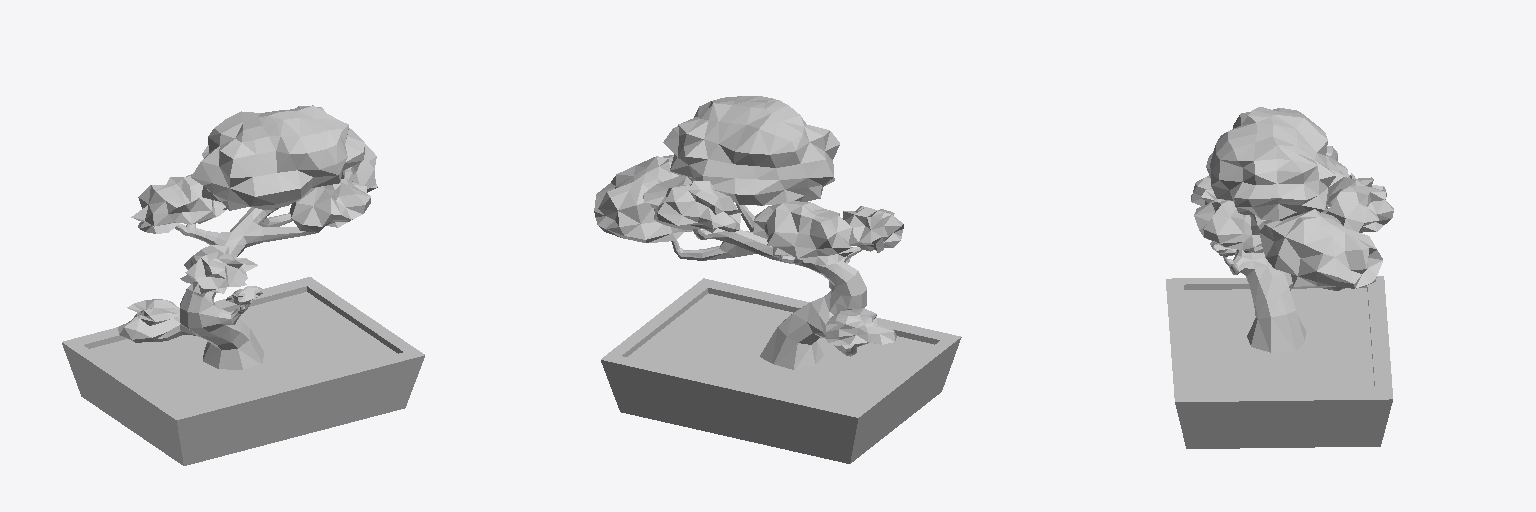
Rendered from bonsaiplant.obj.
3 views of the same model, side by side, from view 1: azimuth 30°, elevation 25°; view 2: azimuth 150°, elevation 25°; view 3: azimuth 270°, elevation 25° (orthographic).
Parts seen in each view (by area): view 1: Bonsai.001; view 2: Bonsai.001; view 3: Bonsai.001.
Boxes of the visible parts, x1=… form: Bonsai.001: x1=62, y1=105, x2=424, y2=465; Bonsai.001: x1=594, y1=96, x2=961, y2=463; Bonsai.001: x1=1166, y1=107, x2=1393, y2=448.
Bounding box in the file's own units: 15.33 × 14.7 × 10.65.